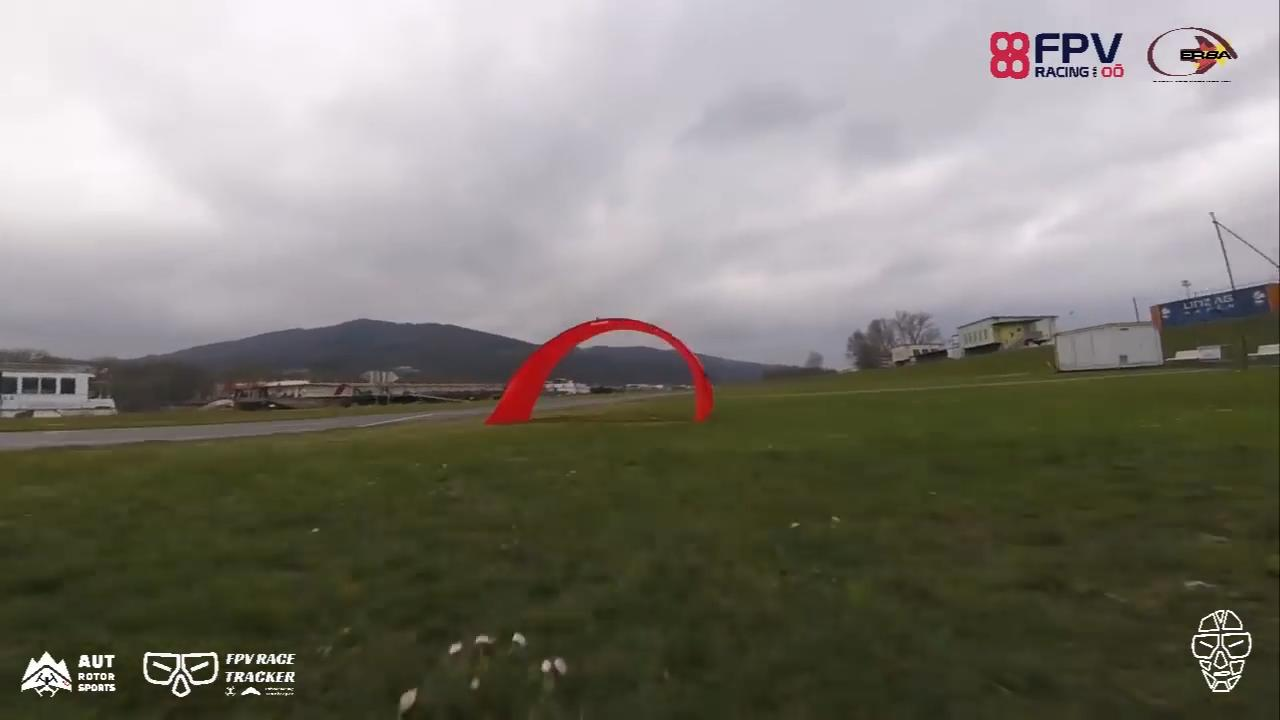gate: (477, 317, 715, 424)
